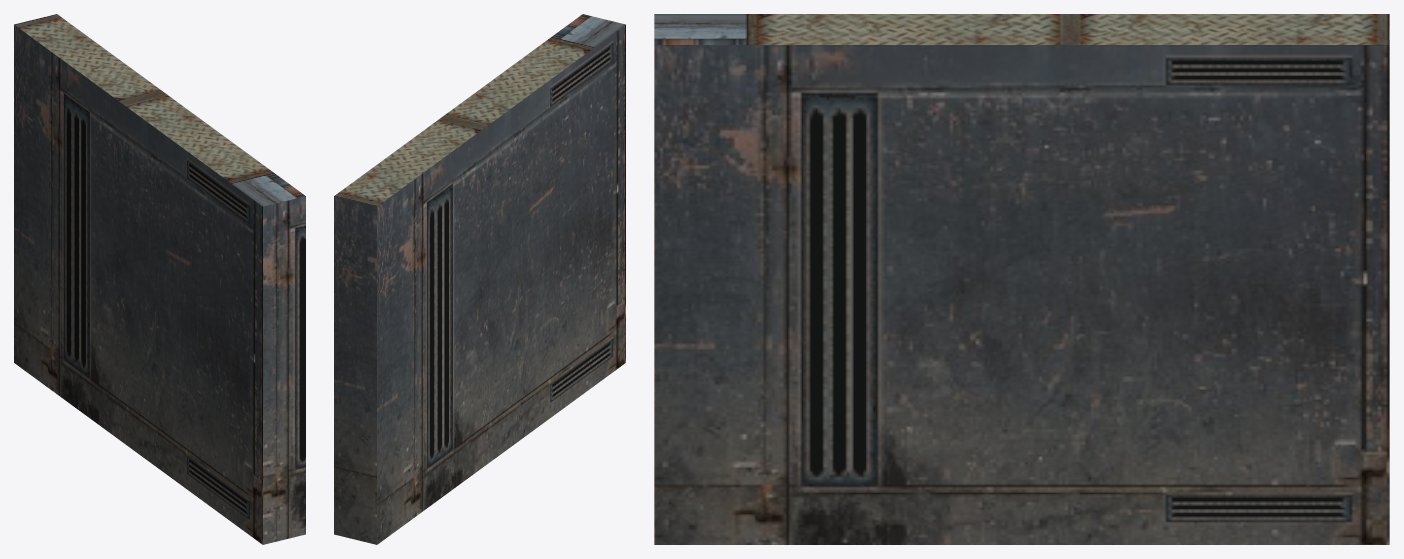
The model's file is SM_BLD_WALL_ROOM.fbx.
The picture shows the model from 3 angles, left to right: view 1: azimuth 30°, elevation 25°; view 2: azimuth 150°, elevation 25°; view 3: azimuth 270°, elevation 25°; orthographic projection. The views are drawn at different scales.
Parts seen in each view (by area): view 1: SM_BLD_WALL_ROOM; view 2: SM_BLD_WALL_ROOM; view 3: SM_BLD_WALL_ROOM.
Boxes of the visible parts, x1,y1,x2,y2 form: SM_BLD_WALL_ROOM: [14, 14, 305, 544]; SM_BLD_WALL_ROOM: [334, 14, 625, 544]; SM_BLD_WALL_ROOM: [654, 14, 1389, 544].
Bounding box in the file's own units: 0.4 × 3 × 4.
